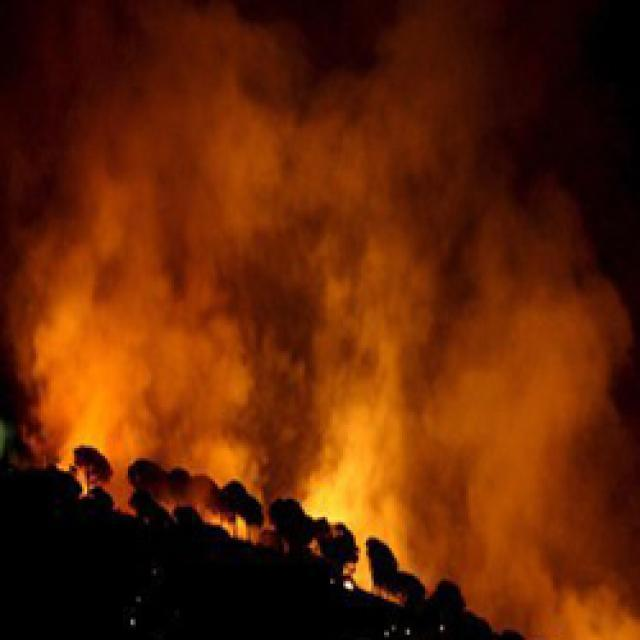Fire: (181, 450, 423, 628)
Smoke: (0, 0, 637, 495), (363, 469, 640, 640)
